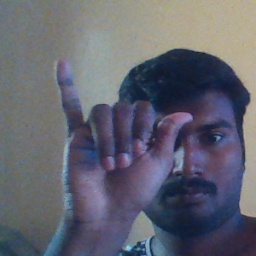J: (51, 57, 192, 219)
